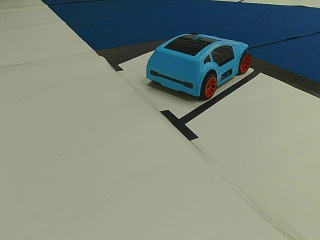car: (145, 34, 251, 99)
